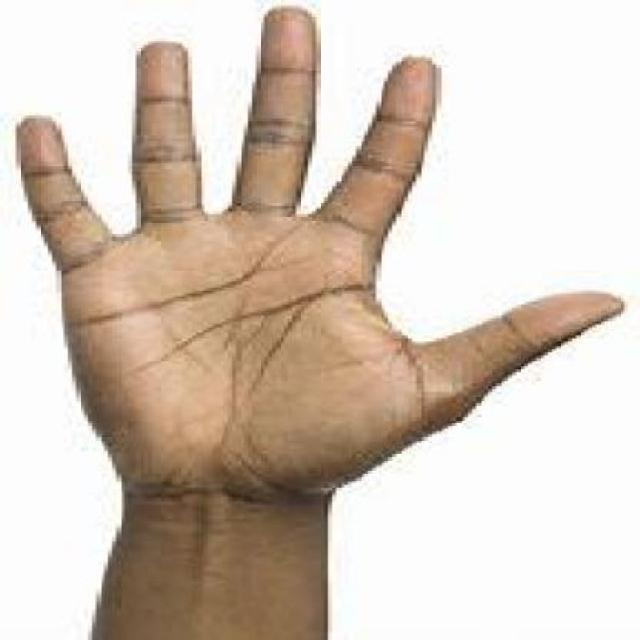no-gloves: (9, 6, 640, 533)
